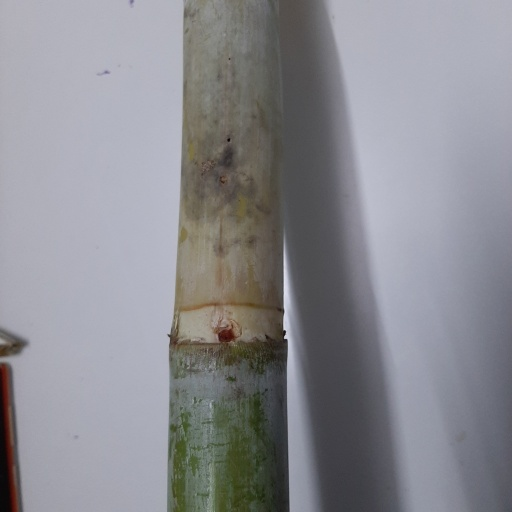Damage_Bud: (213, 322, 239, 343)
